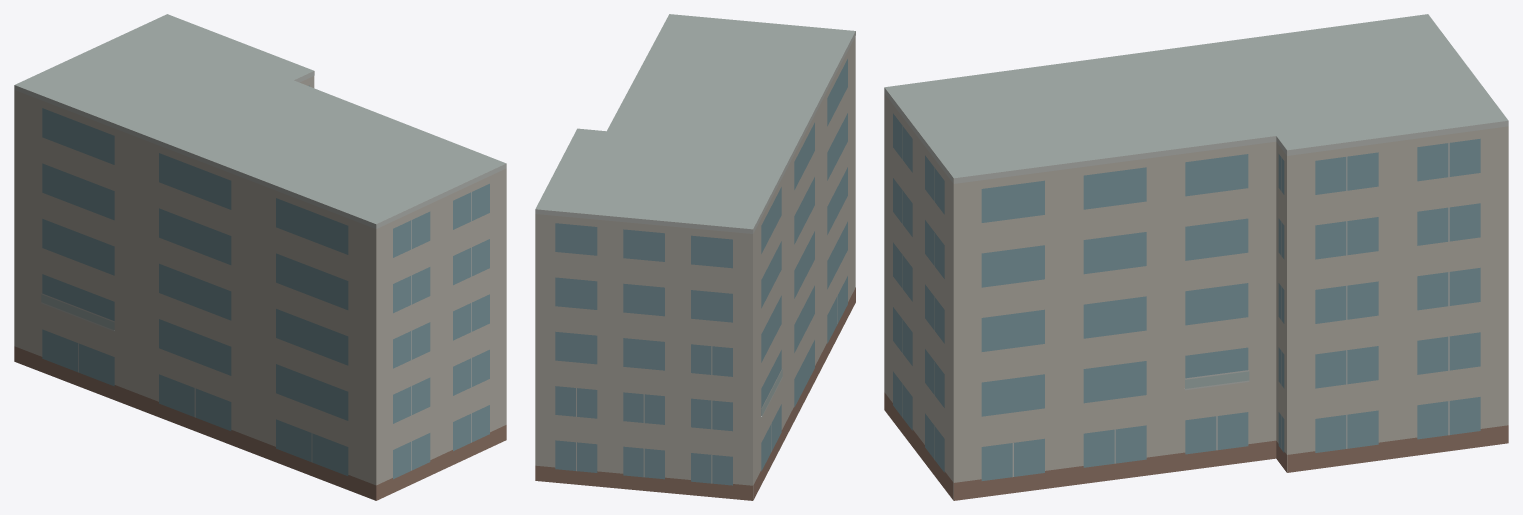
File: survey-upis-32563645.glb
The picture shows the model from 3 angles, left to right: view 1: azimuth 30°, elevation 25°; view 2: azimuth 150°, elevation 25°; view 3: azimuth 270°, elevation 25°; orthographic projection. The views are drawn at different scales.
Visible parts, largest first — view 1: survey-upis-32563645.tmp; view 2: survey-upis-32563645.tmp; view 3: survey-upis-32563645.tmp.
Boxes of the visible parts, x1,y1,x2,y2 form: survey-upis-32563645.tmp: (14,14,506,500); survey-upis-32563645.tmp: (535,14,855,500); survey-upis-32563645.tmp: (884,14,1508,500).
Bounding box in the file's own units: 15.2 × 13.9 × 24.39.
